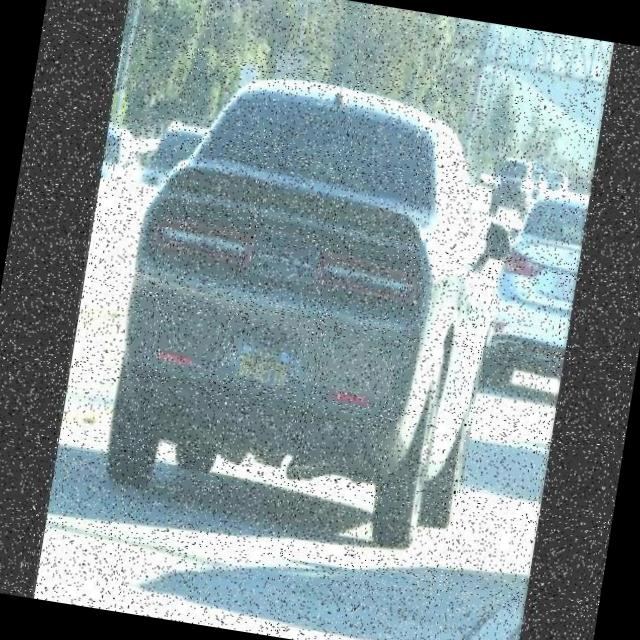LicensePlate: (234, 343, 296, 402), (549, 274, 576, 306)
